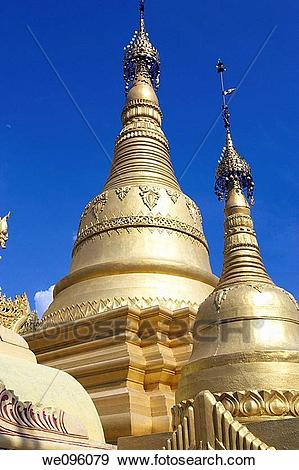Buddhist Temple: (61, 8, 296, 380)
